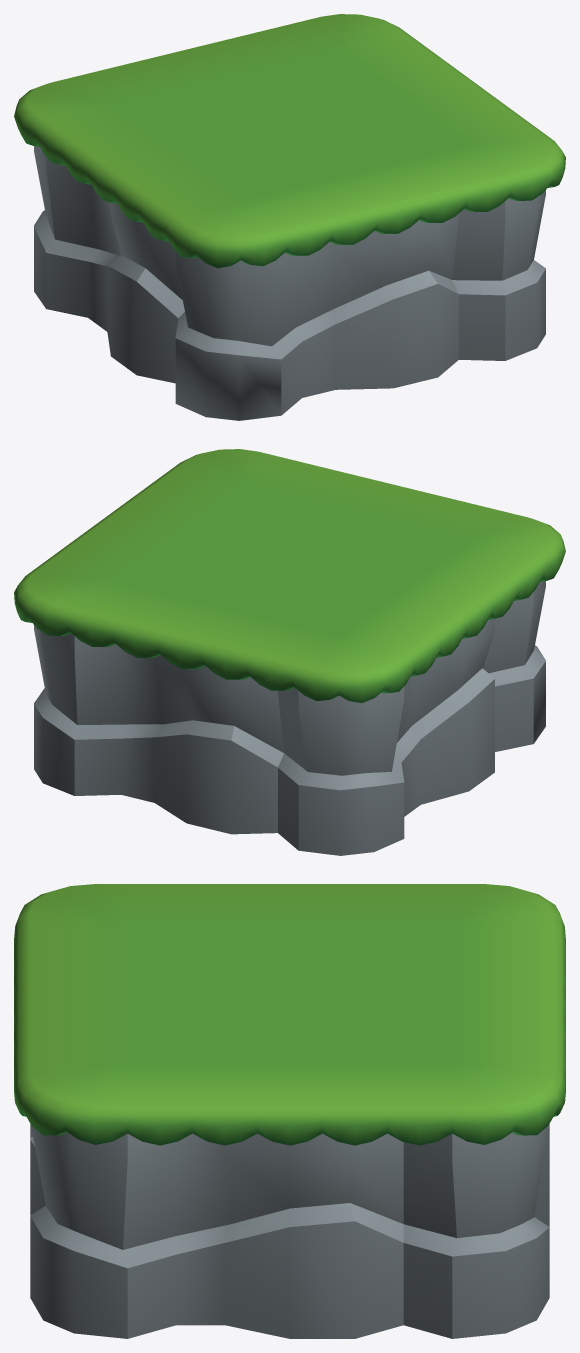
Rendered from Hill_8x8x4_Color1.gltf.
3 renders of one model, top to bottom at view 1: azimuth 30°, elevation 25°; view 2: azimuth 150°, elevation 25°; view 3: azimuth 270°, elevation 25°, orthographic. The views are drawn at different scales.
Visible parts, largest first — view 1: Hill_8x8x4_Color1; view 2: Hill_8x8x4_Color1; view 3: Hill_8x8x4_Color1.
Part boxes in pixels (x1=…): Hill_8x8x4_Color1: x1=14, y1=14, x2=565, y2=420; Hill_8x8x4_Color1: x1=14, y1=449, x2=565, y2=855; Hill_8x8x4_Color1: x1=14, y1=884, x2=565, y2=1338.
Bounding box in the file's own units: 8.5 × 4 × 8.5.
Materials: 1 (1 with a texture image).
